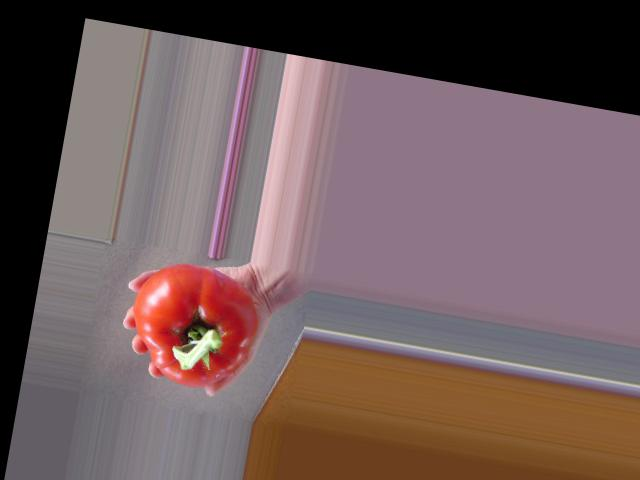tomato: (121, 255, 265, 396)
